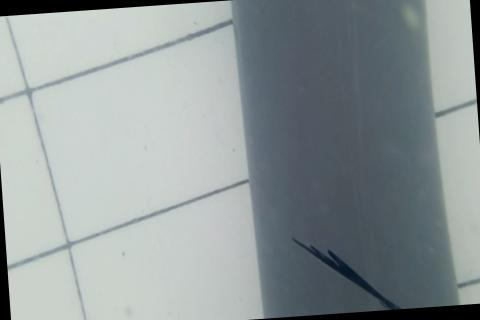keretakan: (288, 223, 424, 316)
